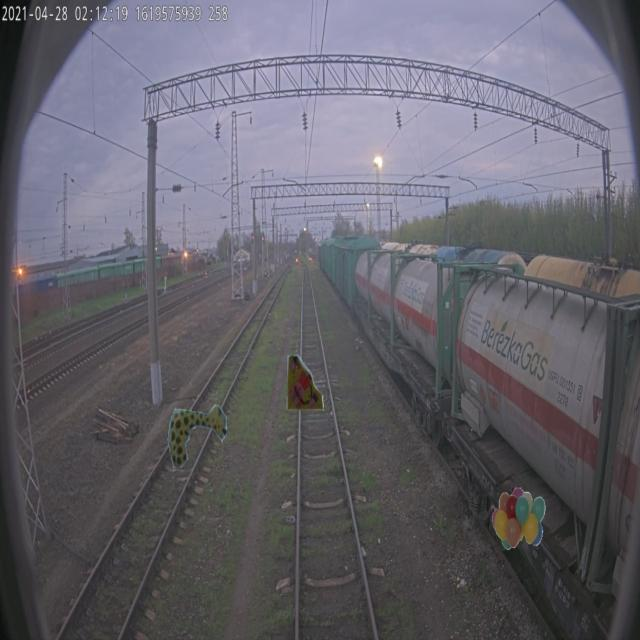balloon: (492, 486, 546, 550)
floating object: (167, 403, 227, 468), (284, 350, 324, 414)
